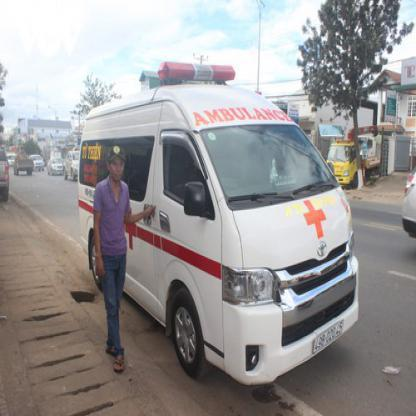Ambulance - v1 Ambulance last generate: (66, 52, 387, 395)
